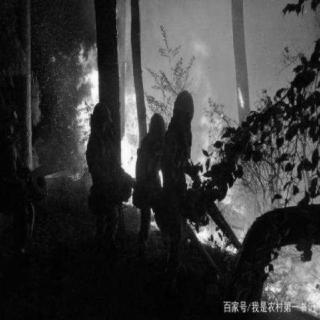Fire: (188, 37, 250, 259), (263, 234, 317, 312), (117, 61, 145, 208)
